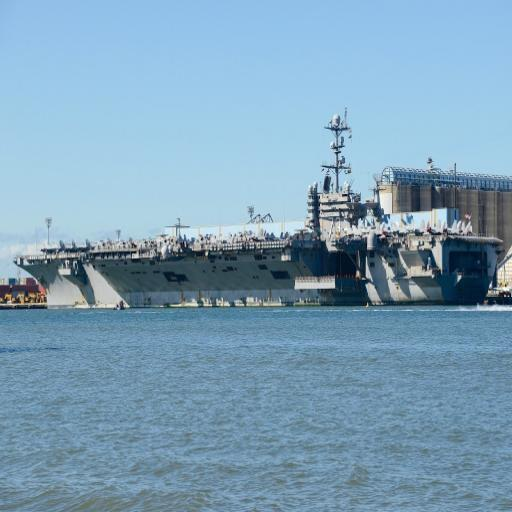Portanaves: (15, 100, 507, 309)
